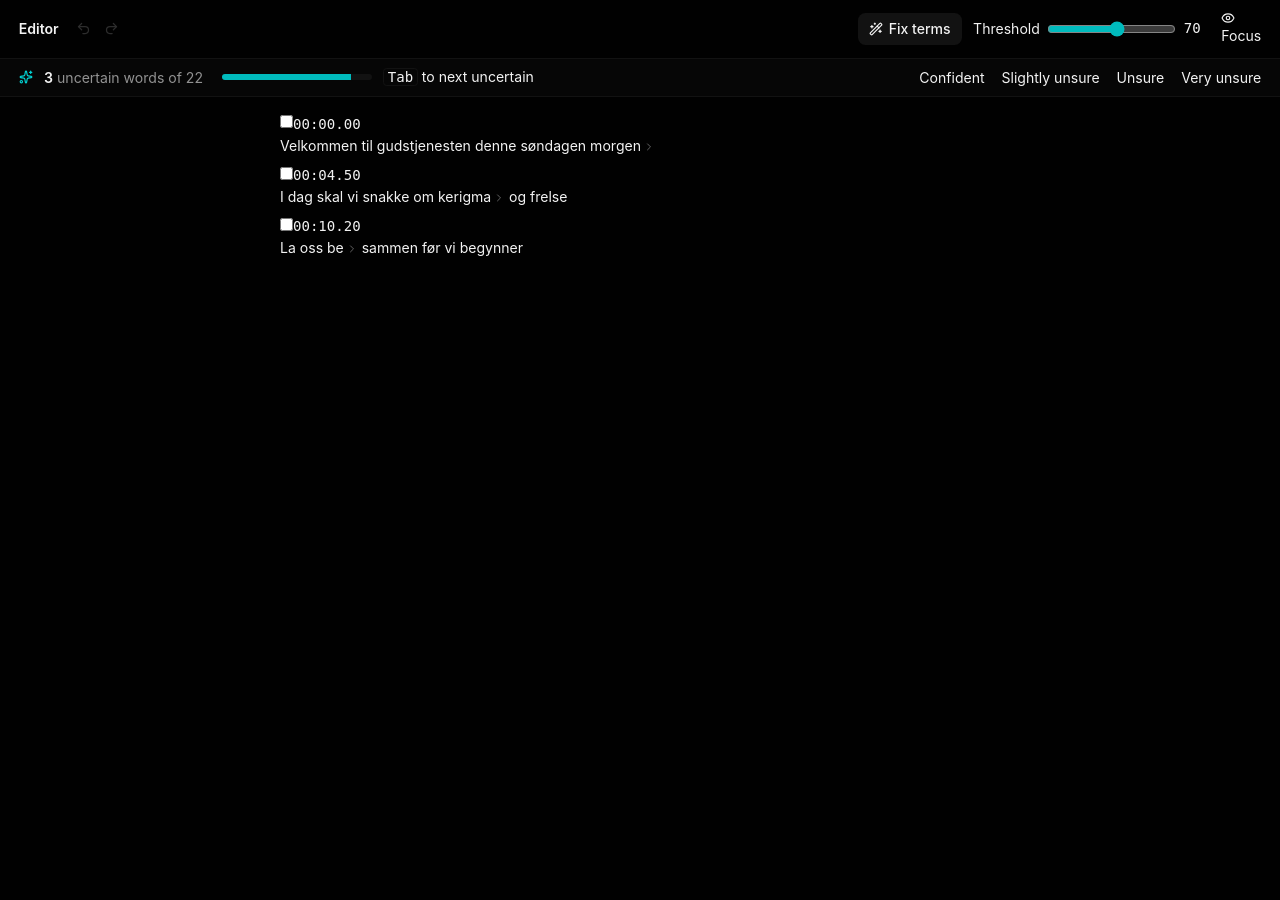
Test: CaptionEditor — bulk action bar › select-all then clear toggles the whole selection
Click the checkbox named "Select caption" next to "00:00.00" at (286, 122), box [280,115,293,128]
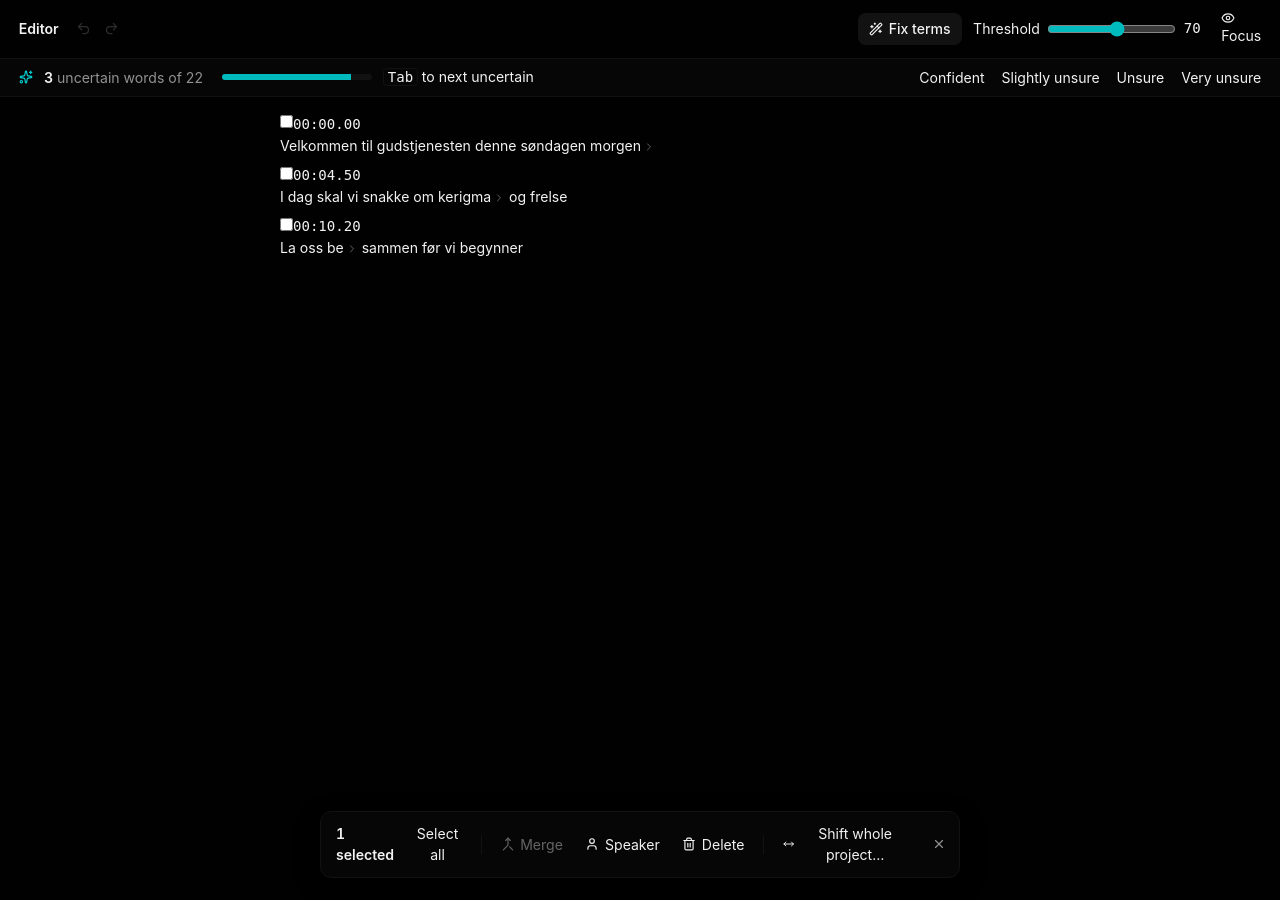
Click the button "Select all" at (438, 844), box [405,819,470,869]
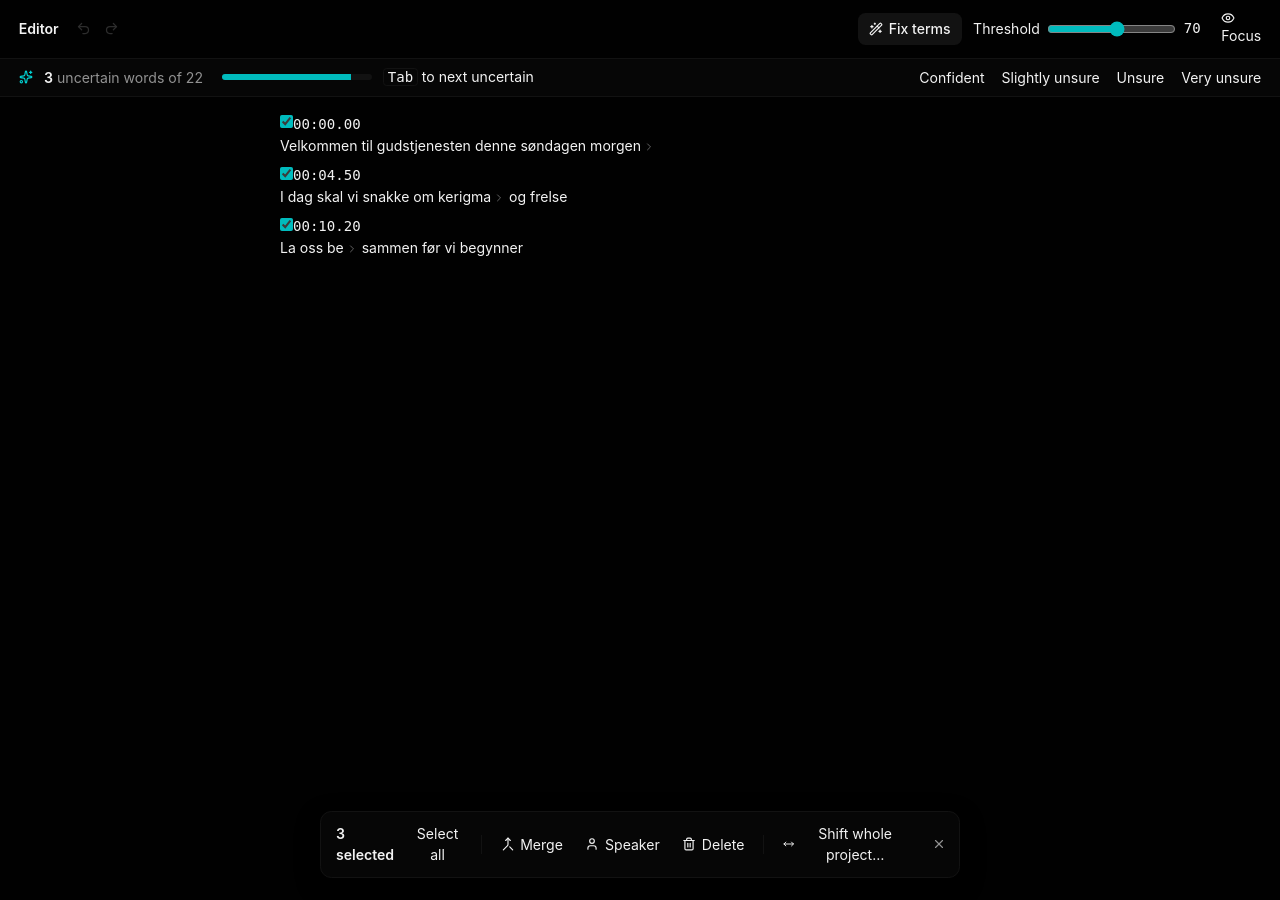
Now the text "3 selected" is shown, box [332,823,398,865]
Click the button named "Clear" at (939, 844), box [929,833,948,855]
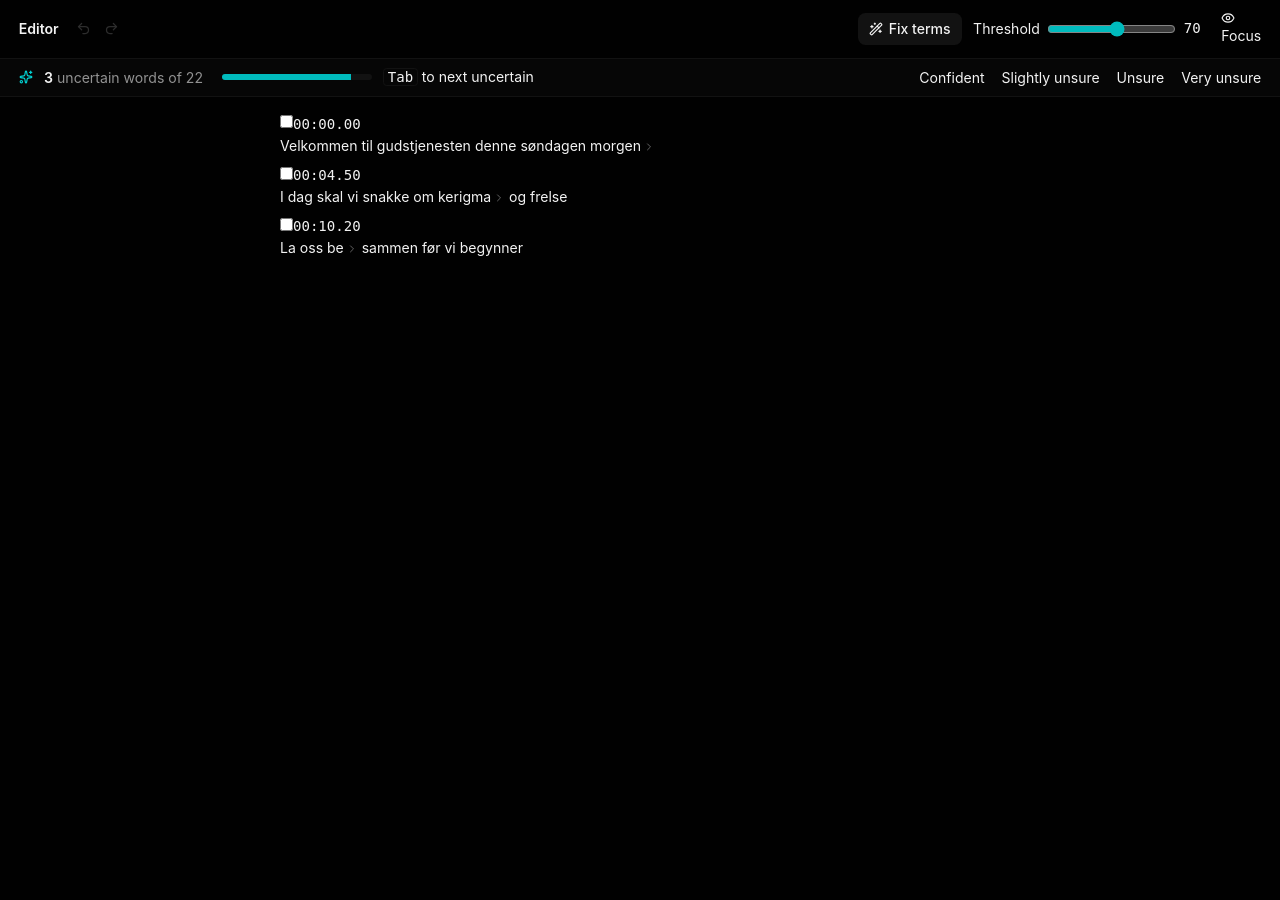
Now the text "selected" is gone
